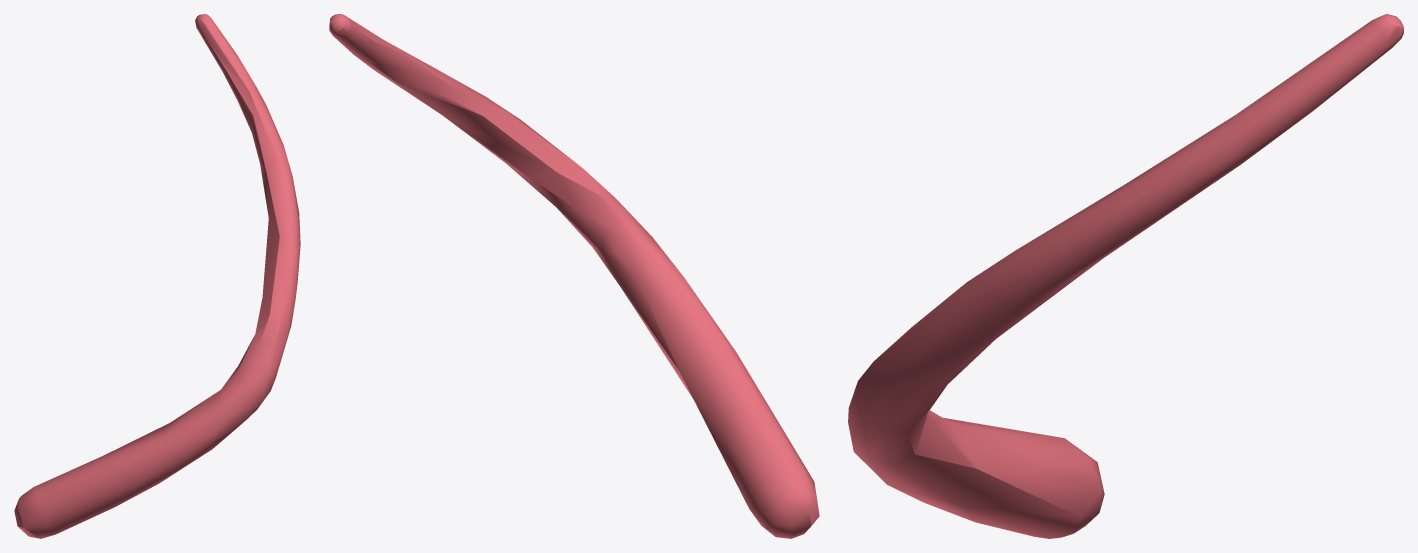
The model's file is fma8635_fj2911.glb.
3 views of the same model, side by side, from view 1: azimuth 30°, elevation 25°; view 2: azimuth 150°, elevation 25°; view 3: azimuth 270°, elevation 25° (orthographic). The views are drawn at different scales.
Parts seen in each view (by area): view 1: FMA8635_FJ2911; view 2: FMA8635_FJ2911; view 3: FMA8635_FJ2911.
Part boxes in pixels (<box>): FMA8635_FJ2911: <box>14,14,300,538</box>; FMA8635_FJ2911: <box>329,14,819,538</box>; FMA8635_FJ2911: <box>848,14,1403,538</box>.
Size of the model in its own units: 0.0359 by 0.0465 by 0.0312.
